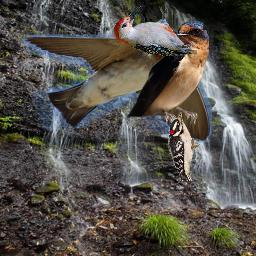Swallow: (23, 34, 212, 143), (126, 20, 209, 128)
Woodpecker: (114, 6, 197, 56), (168, 112, 200, 181)
